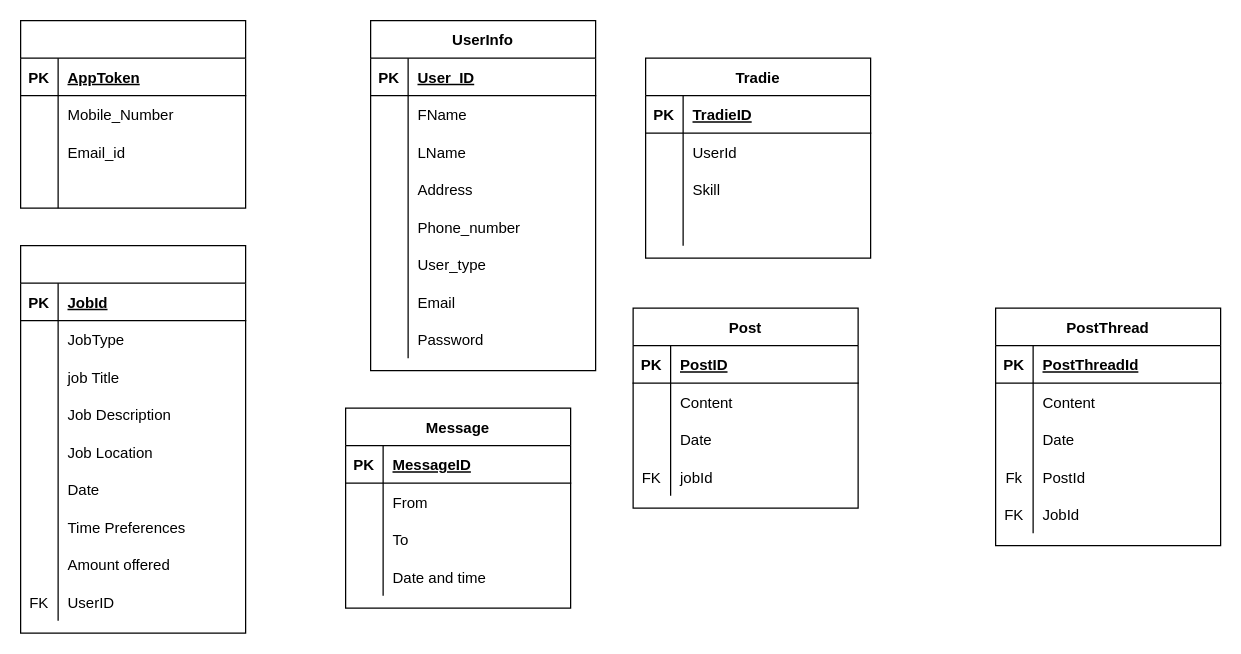
Image size: 1241x654. Some labels were removed from this diagram. The shapes that lost their labels are listed below. From the top down, each one's box as (x1, y1, x2, y2) in pixels, then its label:
(19, 19, 246, 208): UserAppToken
(19, 244, 246, 633): PostJob
